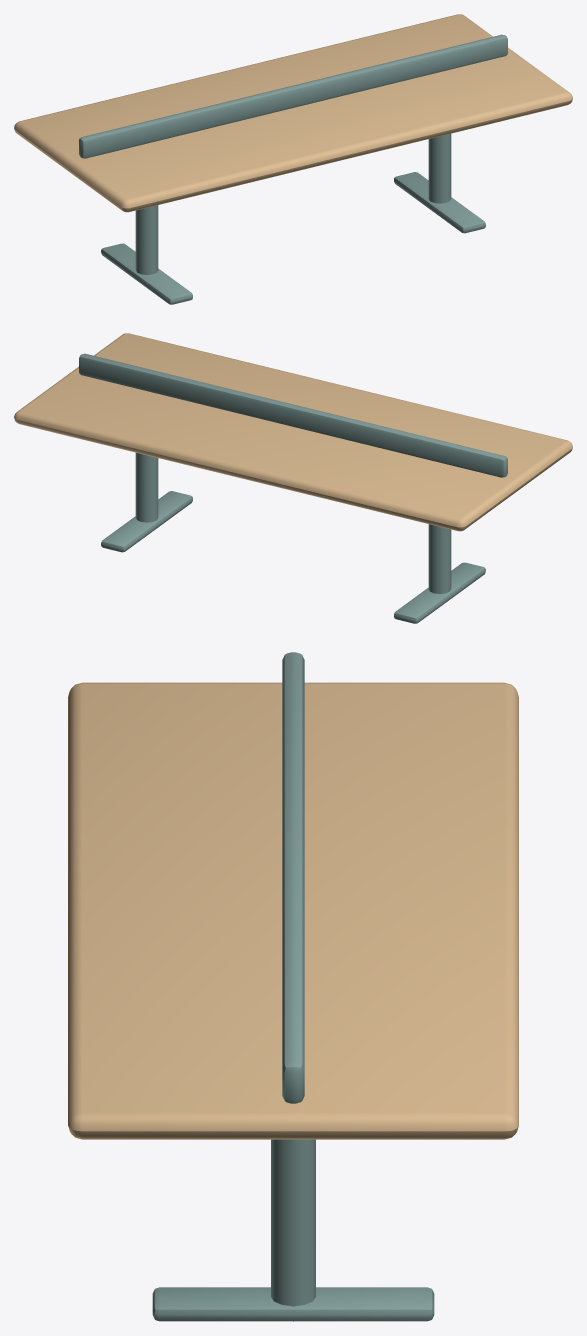
Rendered from visit_table.glb.
3 renders of one model, top to bottom at view 1: azimuth 30°, elevation 25°; view 2: azimuth 150°, elevation 25°; view 3: azimuth 270°, elevation 25°, orthographic. The views are drawn at different scales.
Visible parts, largest first — view 1: wood, paint; view 2: wood, paint; view 3: wood, paint.
Part boxes in pixels (x1,y1,x2,y2): wood: [14, 14, 572, 212]; paint: [79, 34, 507, 304]; wood: [14, 333, 572, 531]; paint: [79, 353, 507, 623]; wood: [68, 682, 518, 1139]; paint: [152, 652, 434, 1321].
Size of the model in its own units: 1.85 by 0.61 by 0.8.
